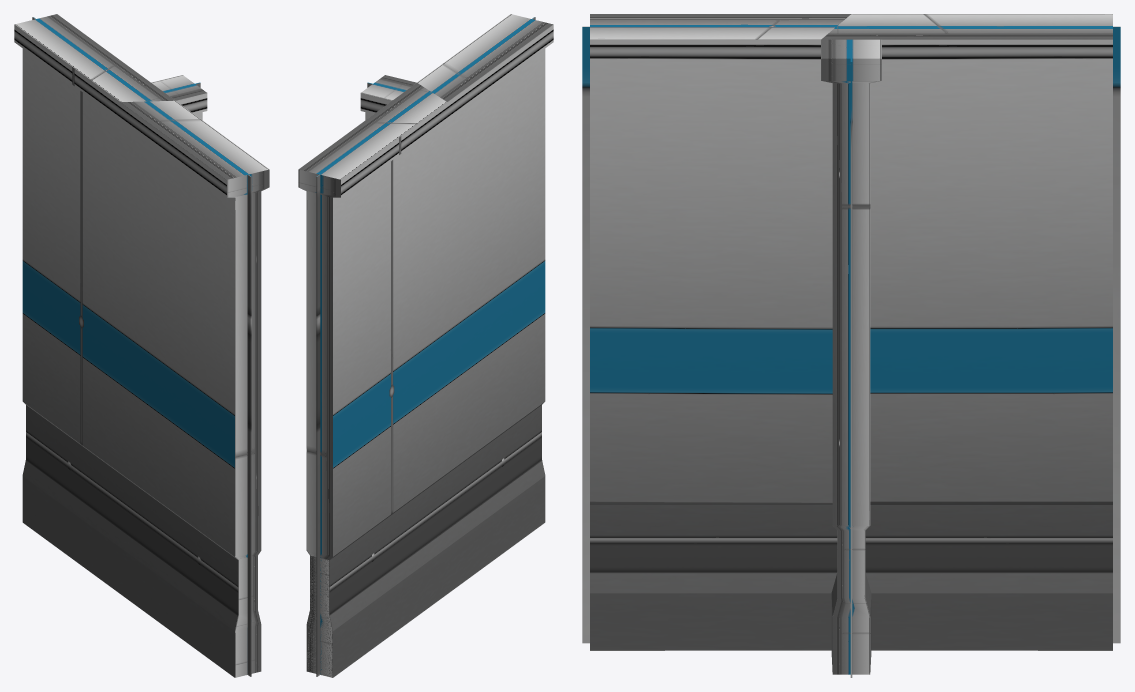
The model's file is TPC_LLU_SM_BB.fbx.
The picture shows the model from 3 angles, left to right: view 1: azimuth 30°, elevation 25°; view 2: azimuth 150°, elevation 25°; view 3: azimuth 270°, elevation 25°; orthographic projection. The views are drawn at different scales.
Parts seen in each view (by area): view 1: TPC_LLU_SM_BB; view 2: TPC_LLU_SM_BB; view 3: TPC_LLU_SM_BB.
Boxes of the visible parts, x1,y1,x2,y2 form: TPC_LLU_SM_BB: [14, 14, 269, 677]; TPC_LLU_SM_BB: [298, 14, 553, 677]; TPC_LLU_SM_BB: [582, 14, 1120, 677].
Size of the model in its own units: 0.751 by 4.5 by 3.56.
